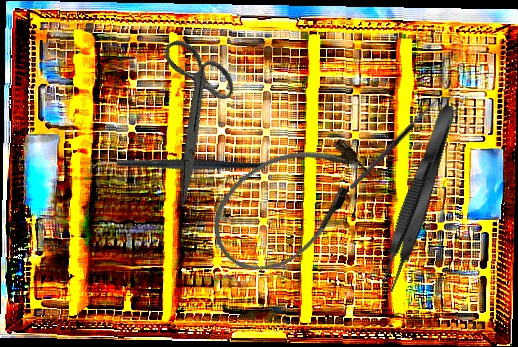Cannula: (194, 116, 386, 290)
Chopper: (86, 103, 267, 233)
Hook Surgical: (344, 91, 442, 191)
Iris Scissors: (112, 25, 274, 207)
Tissue Forceps: (373, 101, 464, 295)
